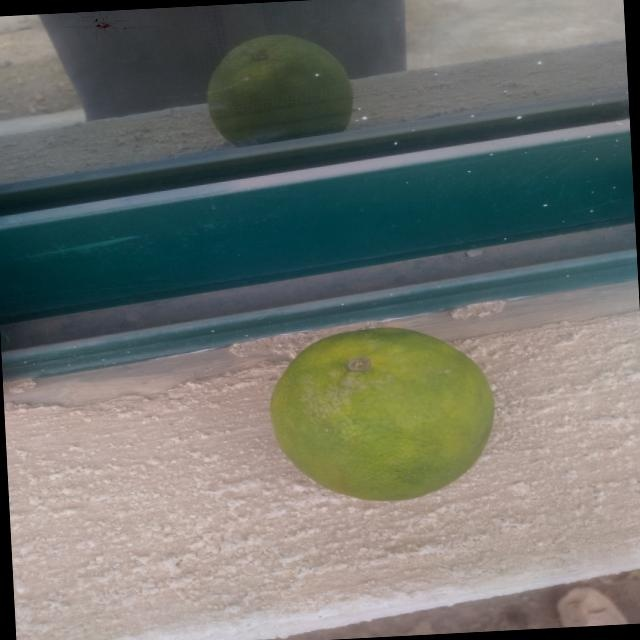agrume: (233, 293, 519, 529)
